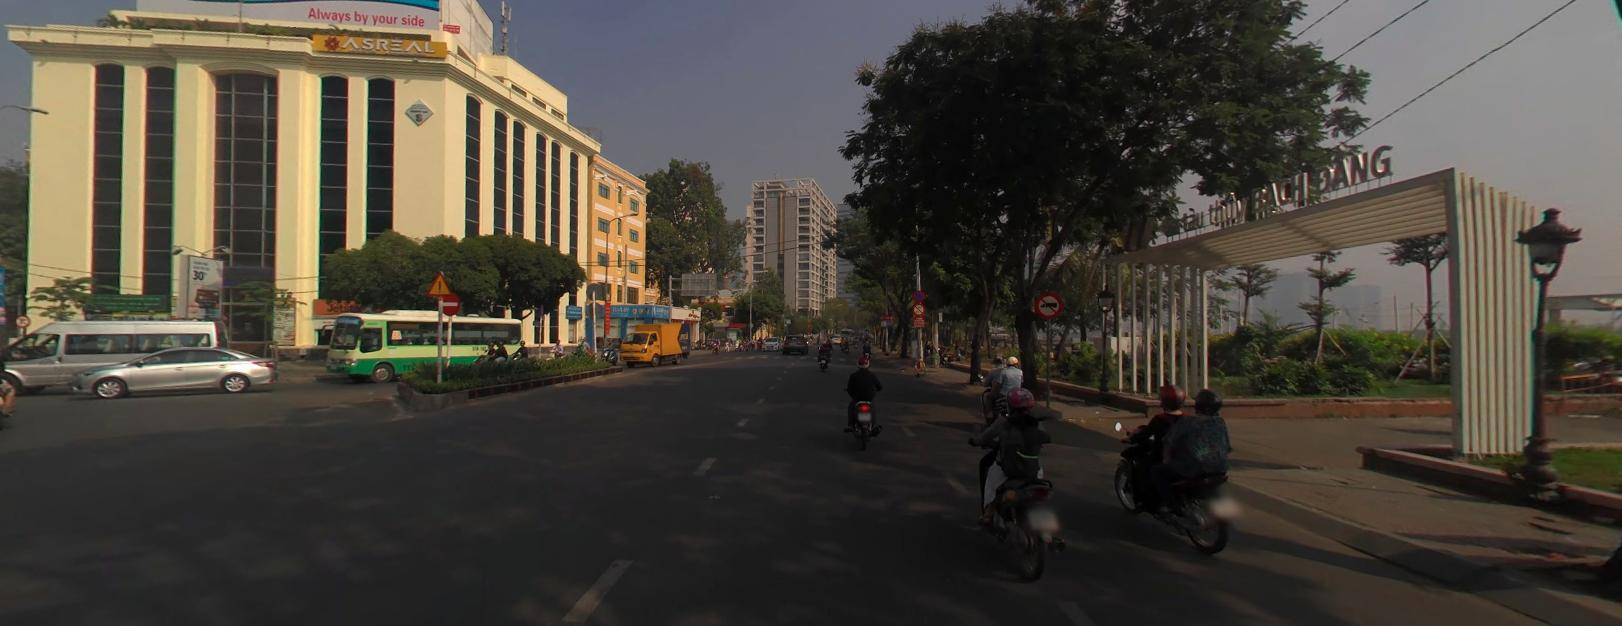Cam con lai: (1035, 291, 1063, 316), (912, 302, 924, 312)
Cam dung va do: (912, 289, 924, 300)
Cam nguoc chieu: (441, 290, 459, 312)
Cam re: (13, 312, 29, 324)
Nguy hiem: (426, 269, 451, 294)
